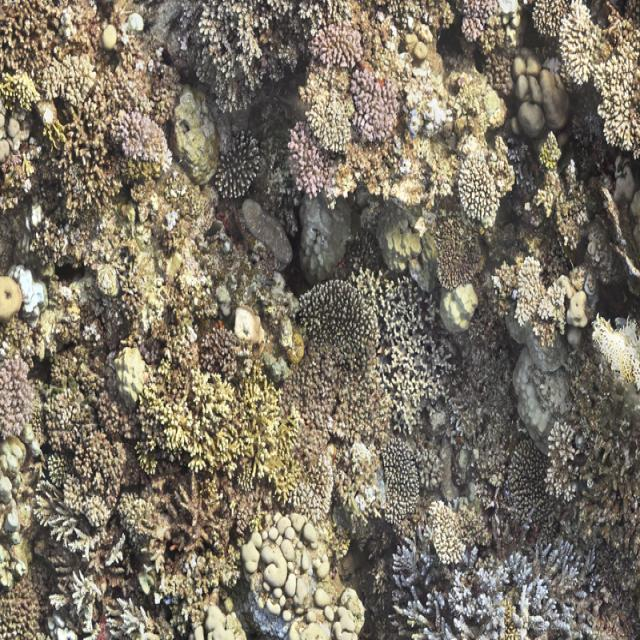Bleached Coral: (396, 538, 602, 638), (514, 311, 572, 453), (403, 99, 452, 142)
